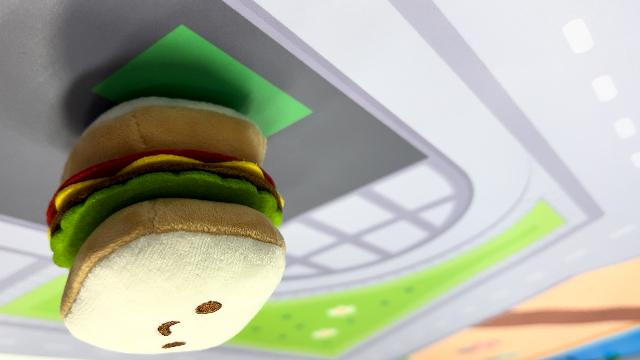sandwich: (44, 94, 290, 354)
